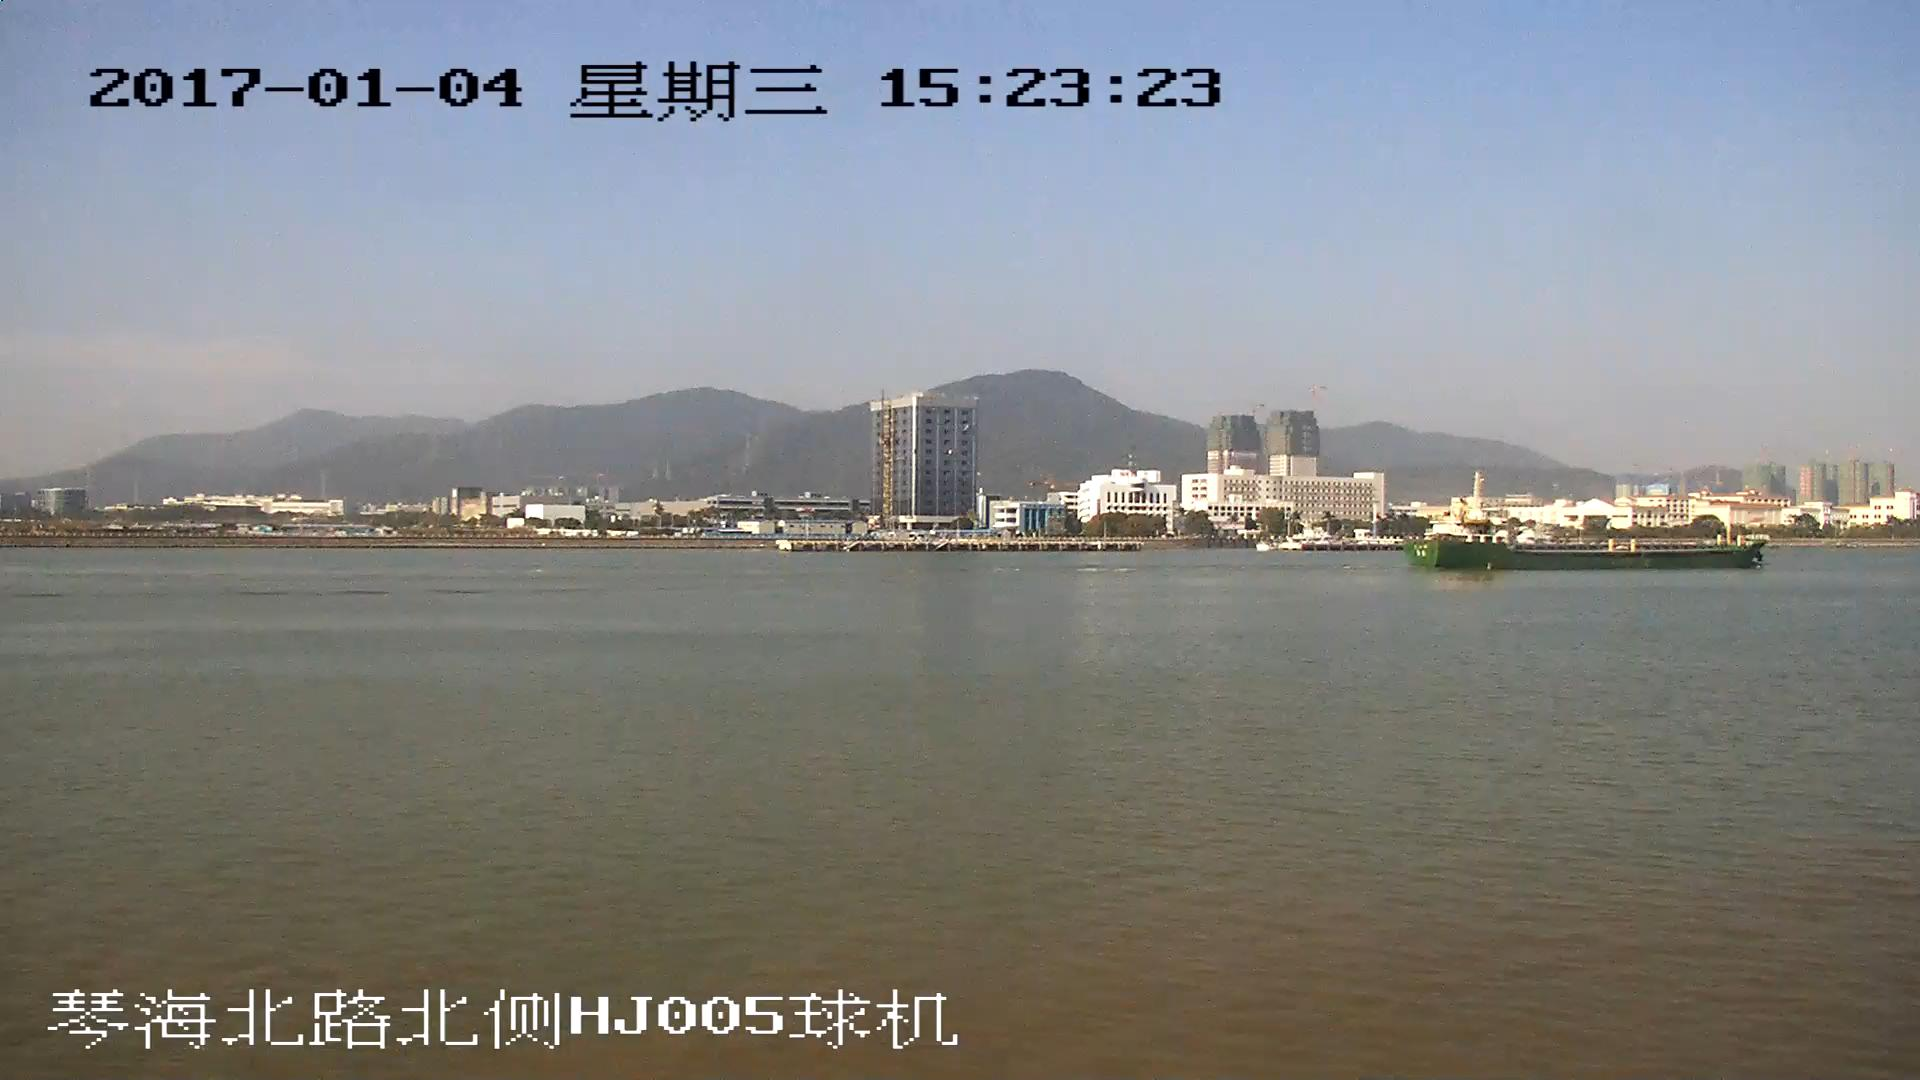general cargo ship: (1410, 479, 1774, 572)
